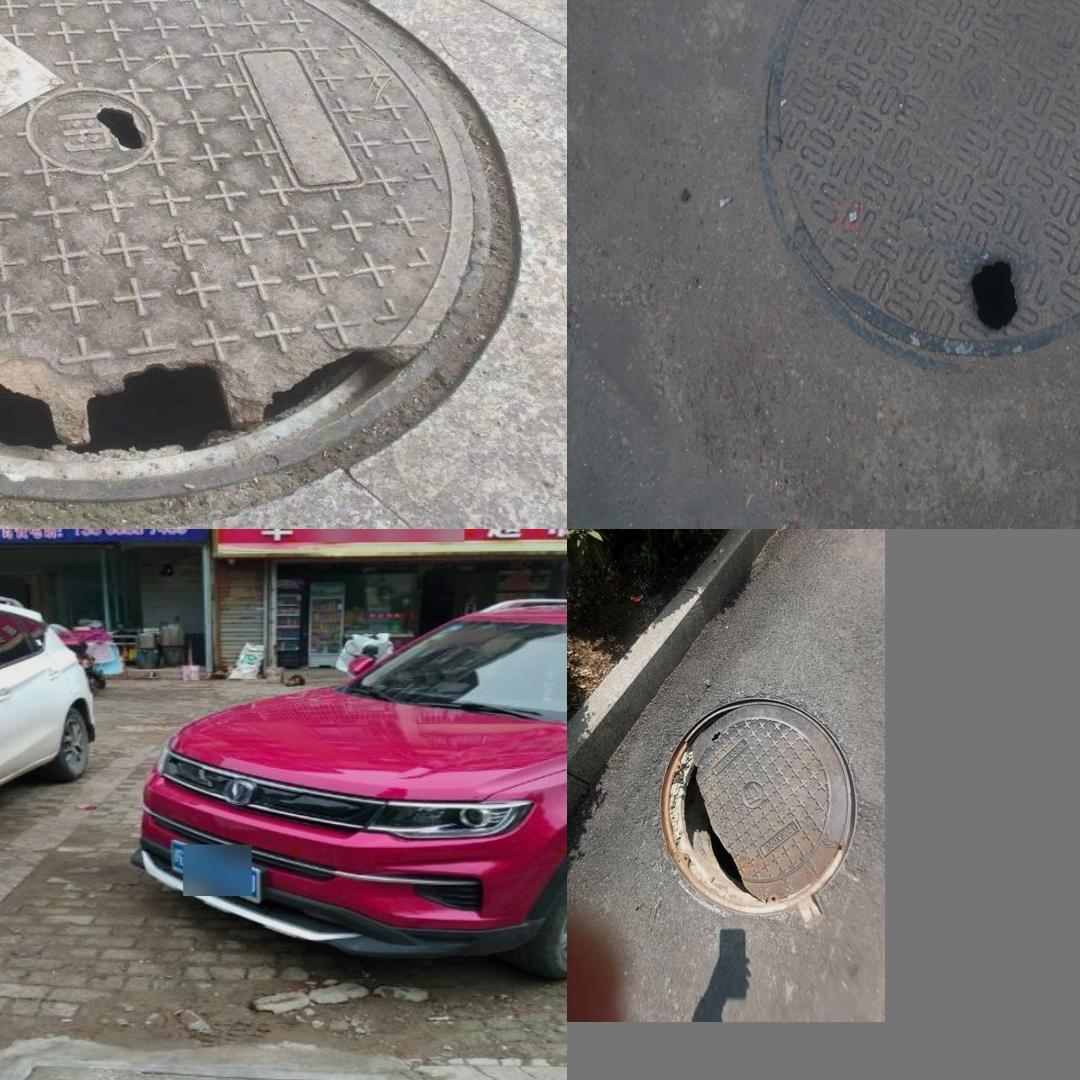broke: (0, 0, 491, 505), (762, 0, 1080, 377), (654, 684, 861, 924), (0, 1057, 404, 1080)
